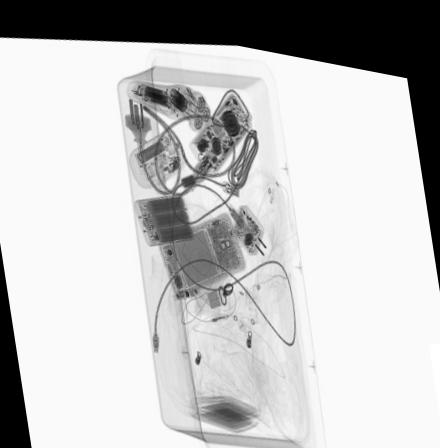Powerbank: (132, 187, 196, 240)
